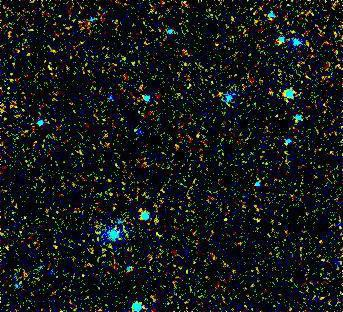star: (126, 195, 156, 225)
